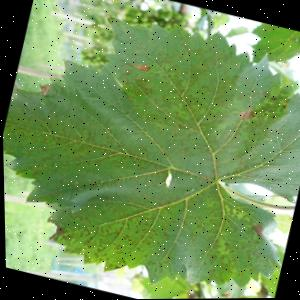Folha: (0, 0, 300, 300), (238, 17, 300, 80)
Fungo: (111, 203, 177, 260), (81, 232, 140, 276), (225, 204, 254, 225), (43, 218, 66, 242), (120, 57, 152, 72), (236, 105, 258, 123), (249, 223, 268, 237), (162, 169, 174, 187), (37, 82, 52, 96), (259, 88, 272, 99), (216, 290, 231, 299), (135, 75, 151, 83), (111, 262, 121, 272), (121, 70, 133, 76), (122, 78, 133, 84), (281, 102, 288, 109), (141, 78, 147, 82)
